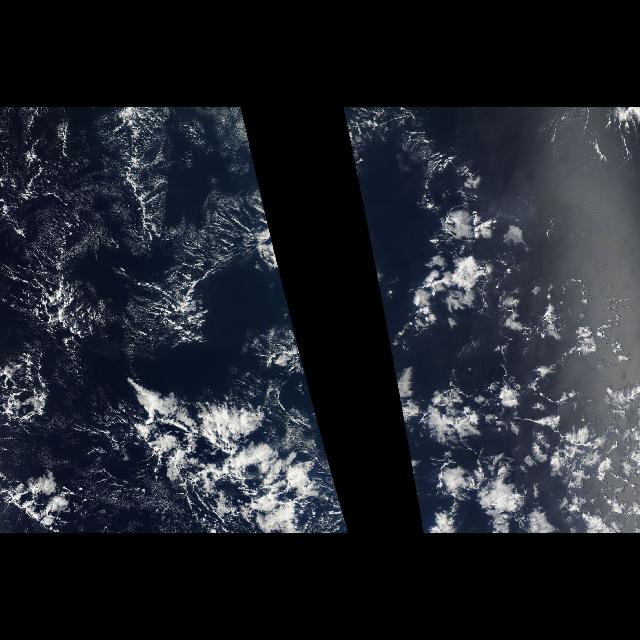Fish: (0, 107, 302, 377)
Flower: (382, 136, 640, 534)
